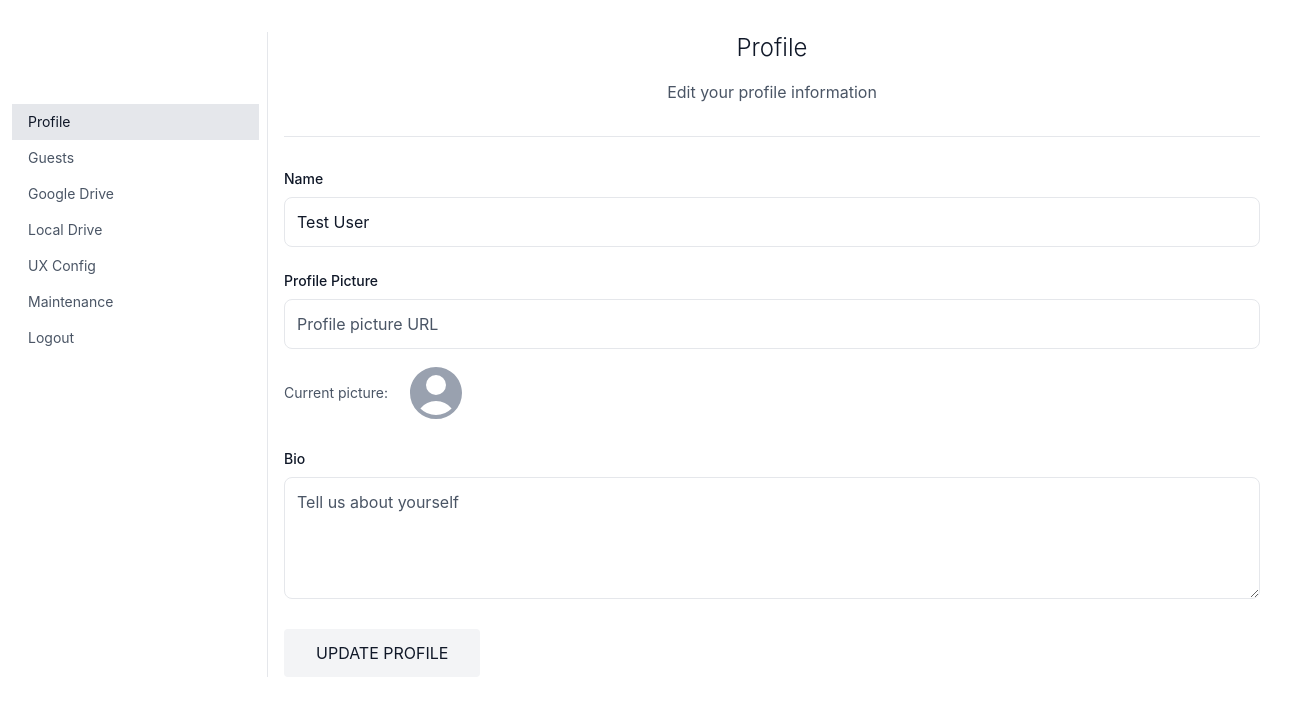
Test: account page gating › renders the UX Config section when selected
The width and height of the screenshot is (1292, 720).
Click the button "UX Config" at (136, 266), box [12,248,259,284]
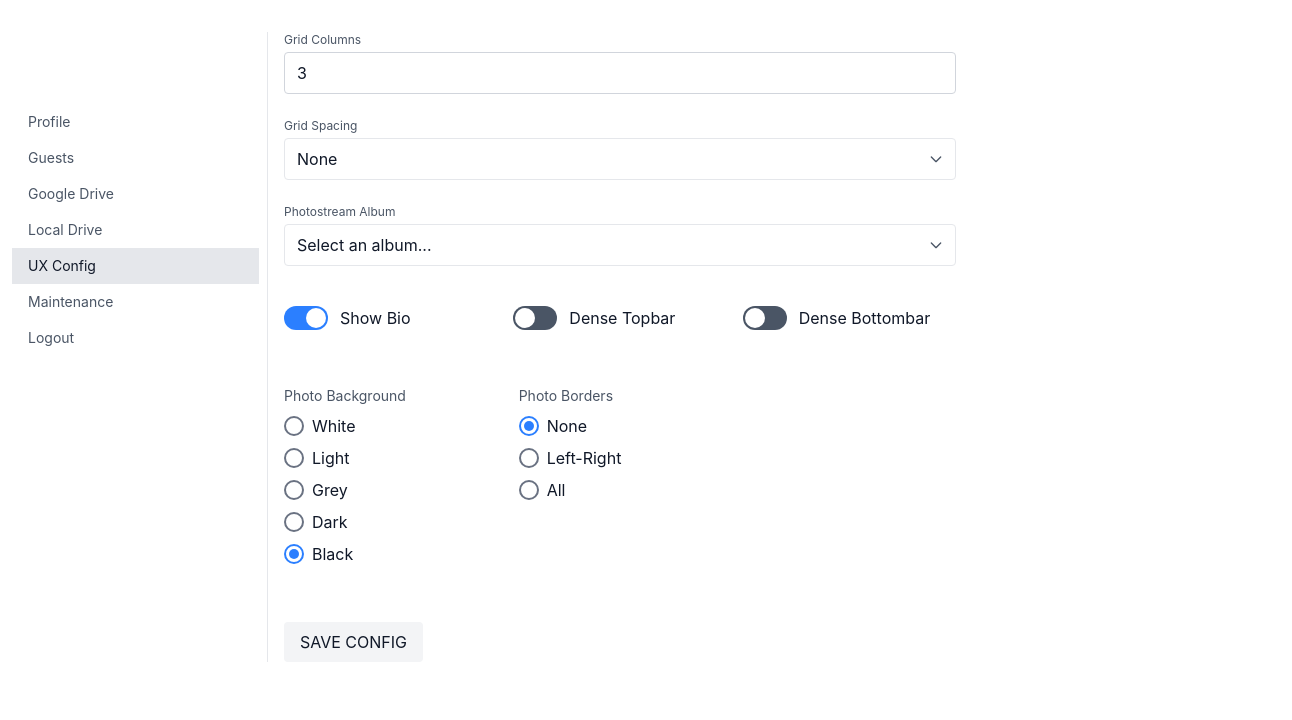
Result: the number field labelled "Grid Columns" is shown at [284,52,956,94]
Result: the button "SAVE CONFIG" is shown at [284,622,423,662]
